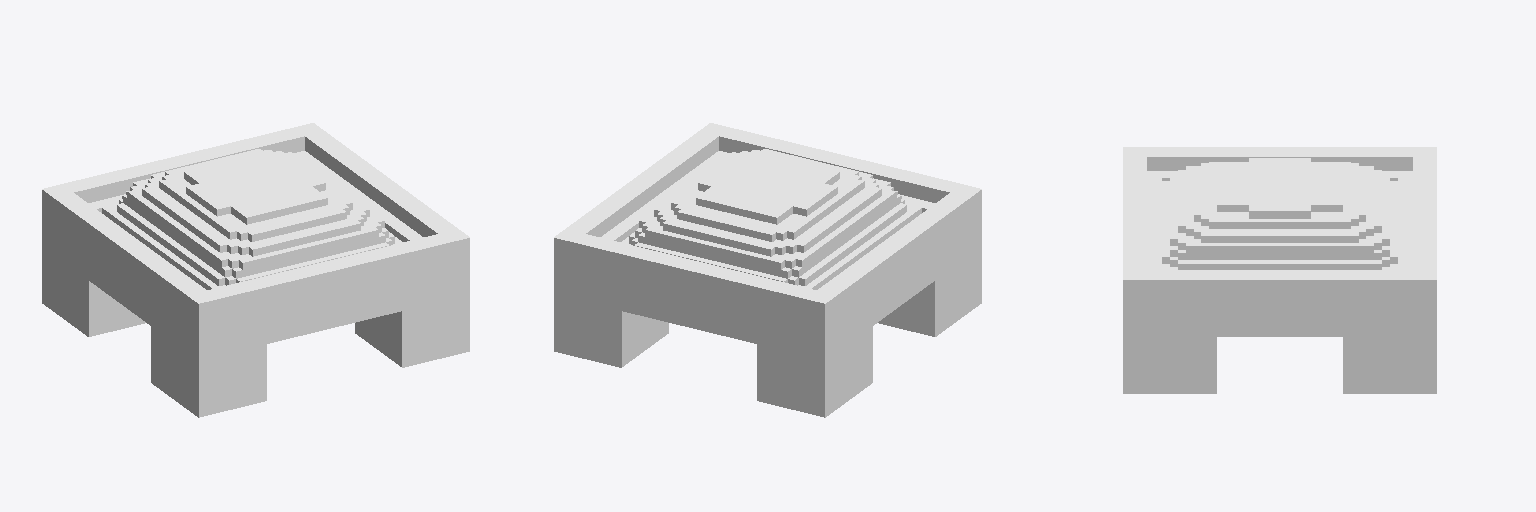
Rendered from brasero.obj.
3 renders of one model, left to right at view 1: azimuth 30°, elevation 25°; view 2: azimuth 150°, elevation 25°; view 3: azimuth 270°, elevation 25°, orthographic.
Visible parts, largest first — view 1: brasero; view 2: brasero; view 3: brasero.
Part boxes in pixels (bbox=[...]): brasero: bbox=[42, 123, 469, 417]; brasero: bbox=[554, 123, 981, 417]; brasero: bbox=[1123, 147, 1436, 393].
Size of the model in its own units: 40 by 20 by 40.